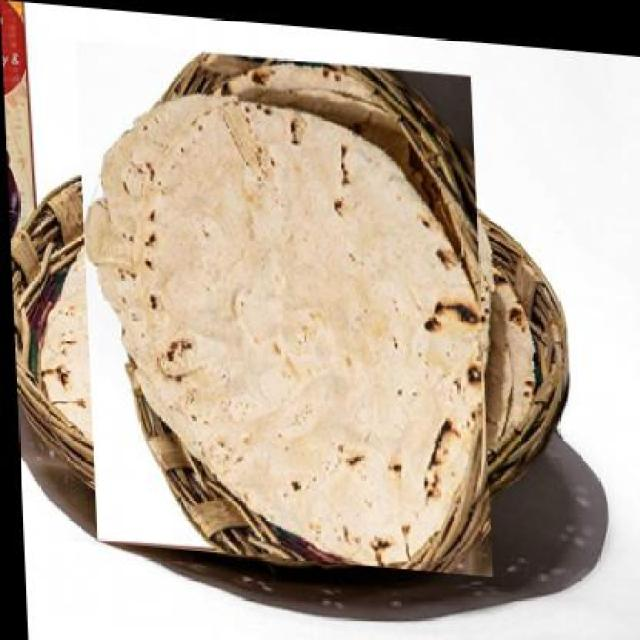chapati: (51, 65, 515, 546)
